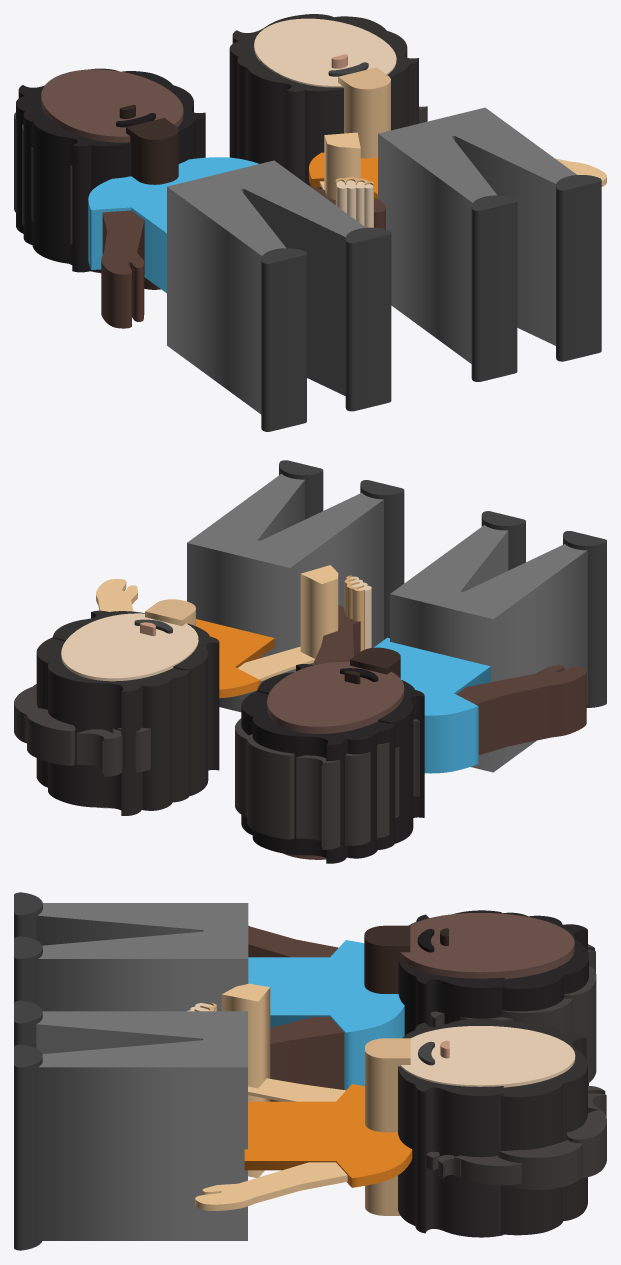
Rendered from emoji_u1f9d1_1f3ff_200d_1f91d_200d_1f9d1_1f3fb.glb.
3 renders of one model, top to bottom at view 1: azimuth 30°, elevation 25°; view 2: azimuth 150°, elevation 25°; view 3: azimuth 270°, elevation 25°, orthographic. The views are drawn at different scales.
Parts seen in each view (by area): view 1: emoji_u1f9d1_1f3ff_200d_1f91d_200d_1f9d1_1f3fb; view 2: emoji_u1f9d1_1f3ff_200d_1f91d_200d_1f9d1_1f3fb; view 3: emoji_u1f9d1_1f3ff_200d_1f91d_200d_1f9d1_1f3fb.
Boxes of the visible parts, <box> form: emoji_u1f9d1_1f3ff_200d_1f91d_200d_1f9d1_1f3fb: <box>14,14,606,431</box>; emoji_u1f9d1_1f3ff_200d_1f91d_200d_1f9d1_1f3fb: <box>14,460,606,863</box>; emoji_u1f9d1_1f3ff_200d_1f91d_200d_1f9d1_1f3fb: <box>14,892,606,1250</box>.
Bounding box in the file's own units: 0.0346 × 0.0114 × 0.0335.
